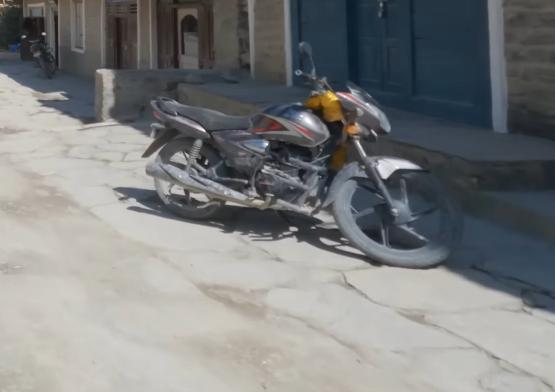bike: (139, 38, 470, 272)
